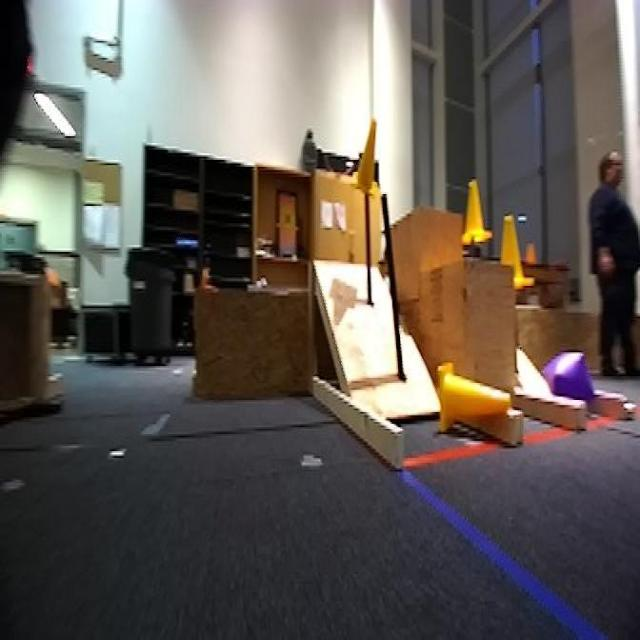frc_cone: (434, 362, 511, 432), (500, 210, 534, 294), (348, 121, 381, 201), (457, 175, 492, 247)
frc_cube: (544, 352, 588, 408)
